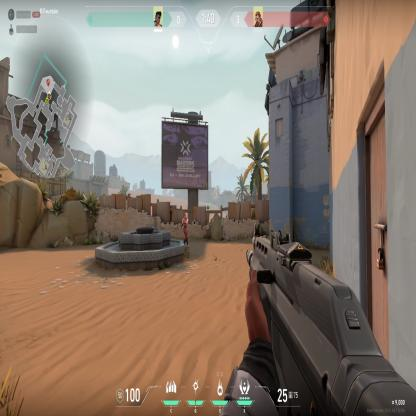enemy: (181, 213, 189, 248)
